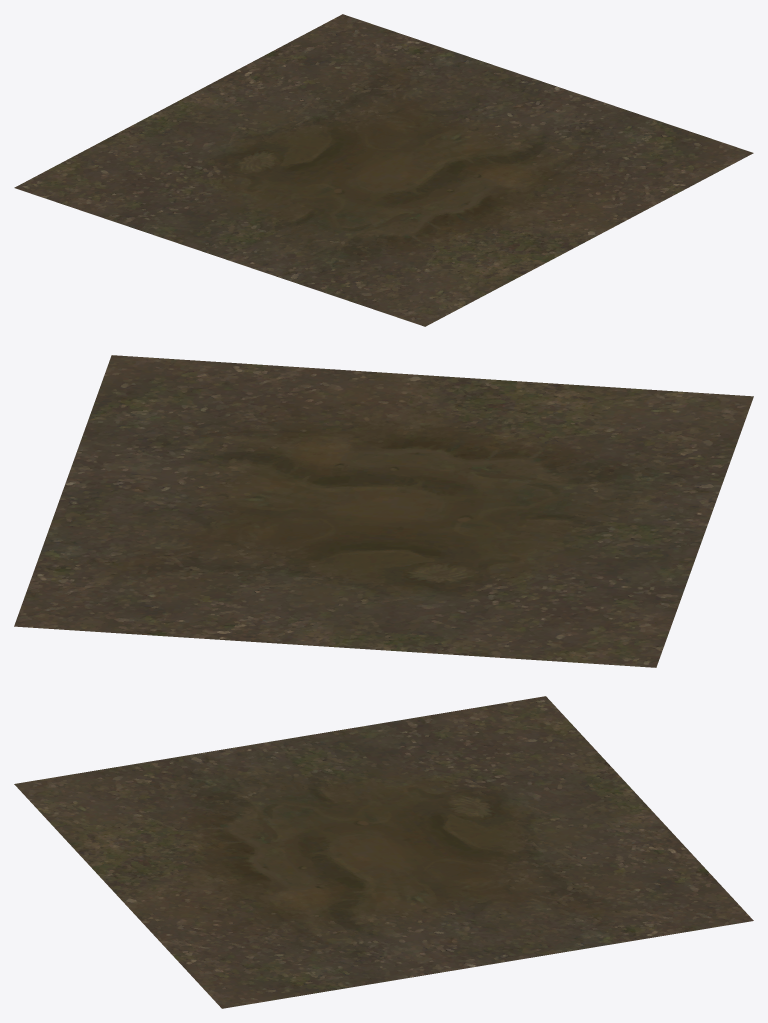
File: dirt_blends01.fbx
The picture shows the model from 3 angles, top to bottom: view 1: azimuth 30°, elevation 25°; view 2: azimuth 150°, elevation 25°; view 3: azimuth 270°, elevation 25°; orthographic projection. The views are drawn at different scales.
Visible parts, largest first — view 1: obj0.050; view 2: obj0.050; view 3: obj0.050.
Part boxes in pixels (x1,y1,x2,y2): obj0.050: (14, 14, 753, 326); obj0.050: (14, 355, 753, 667); obj0.050: (14, 696, 753, 1008).
Bounding box in the file's own units: 10.12 × 1.61e-06 × 10.12.
